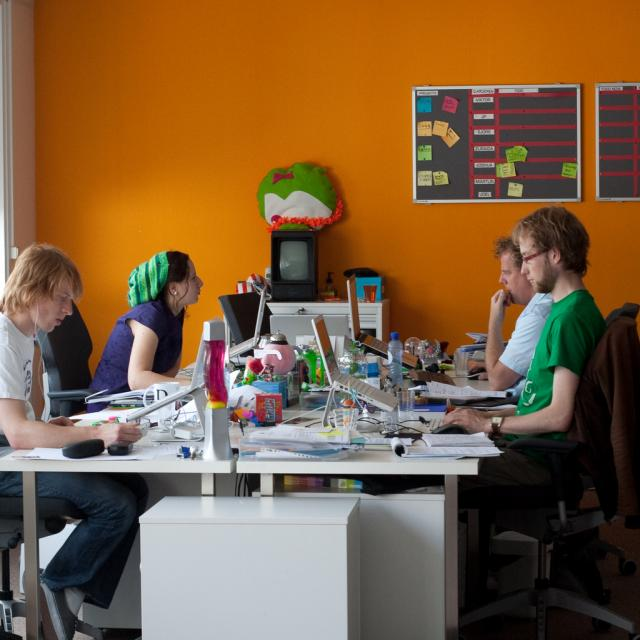chair: (467, 307, 640, 636)
desk: (9, 370, 479, 640)
laptop: (218, 291, 268, 365)
person: (0, 242, 149, 640), (441, 204, 607, 493), (88, 250, 204, 397), (481, 234, 552, 392)
tv: (270, 230, 318, 300)
